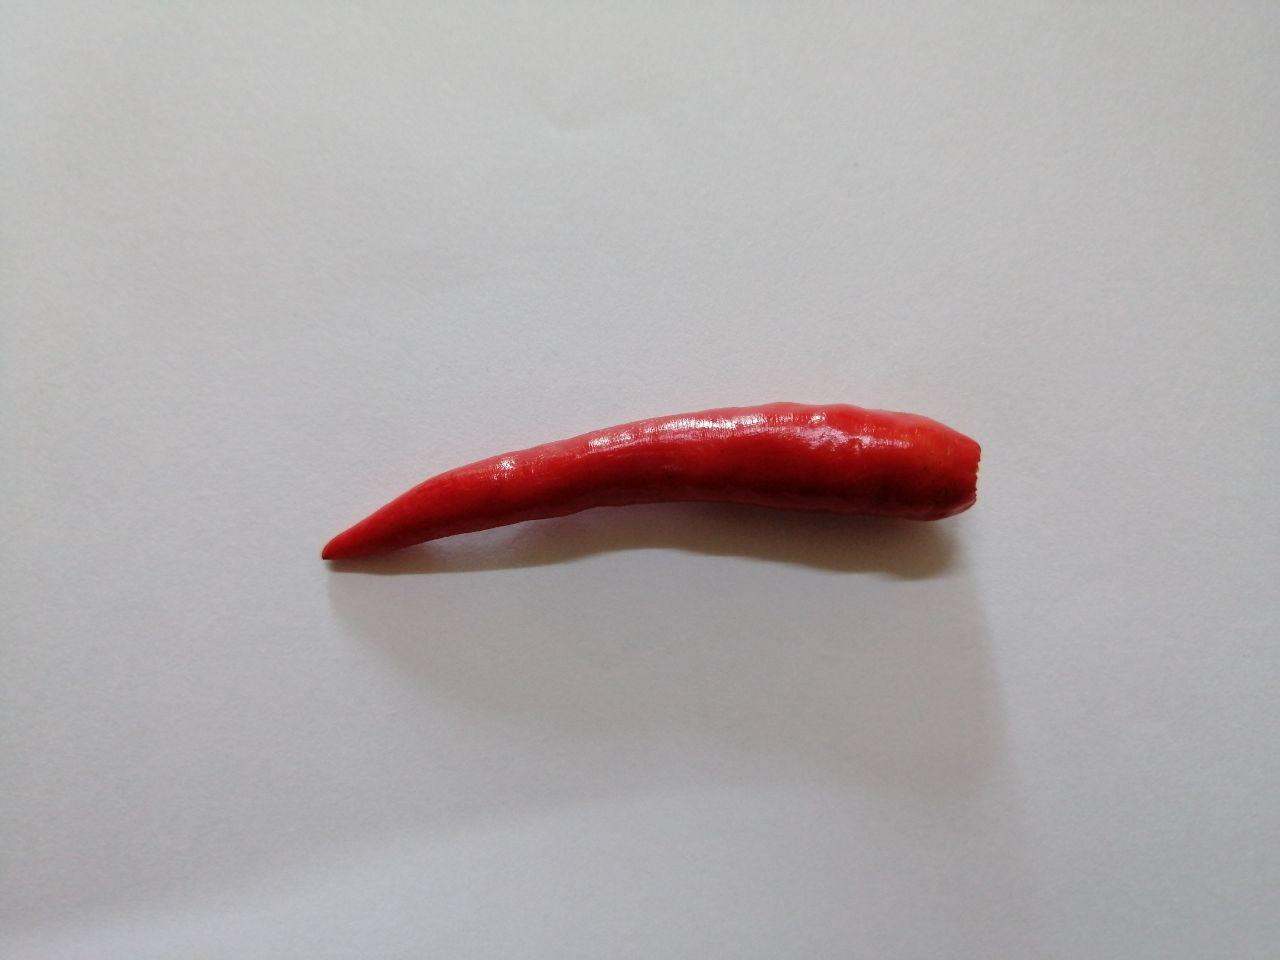lada merah: (309, 383, 999, 587)
